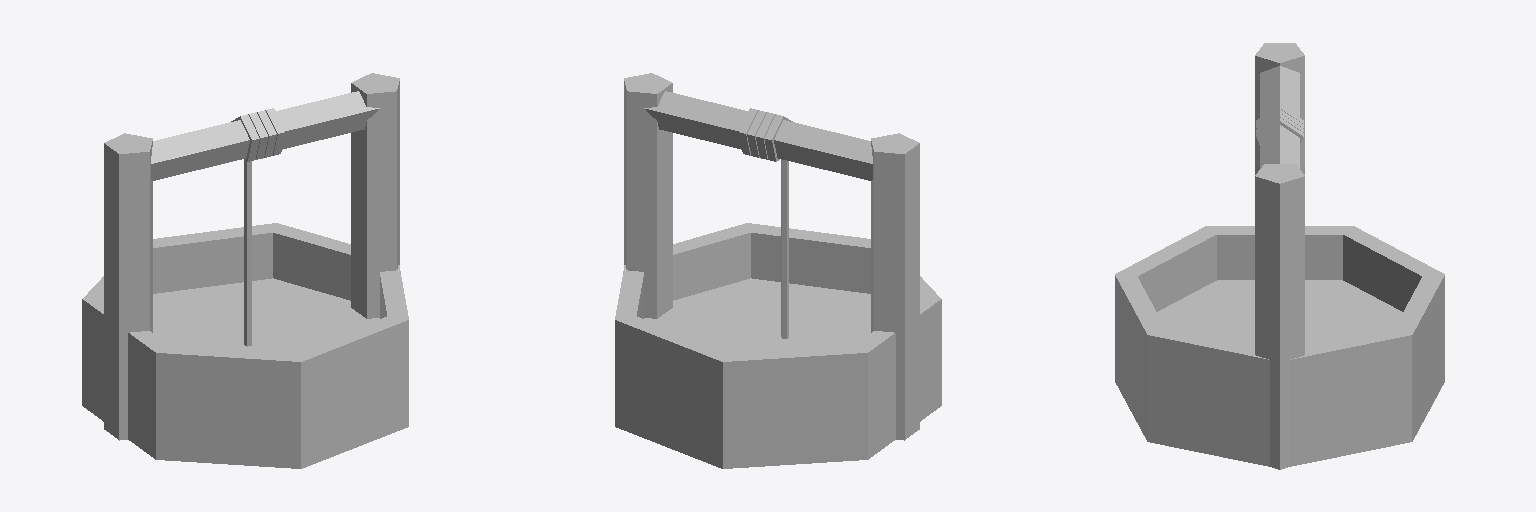
File: well.obj
3 views of the same model, side by side, from view 1: azimuth 30°, elevation 25°; view 2: azimuth 150°, elevation 25°; view 3: azimuth 270°, elevation 25° (orthographic).
Parts seen in each view (by area): view 1: Well_Mesh.003; view 2: Well_Mesh.003; view 3: Well_Mesh.003.
Boxes of the visible parts, x1=… form: Well_Mesh.003: x1=82, y1=73, x2=408, y2=468; Well_Mesh.003: x1=615, y1=73, x2=941, y2=468; Well_Mesh.003: x1=1115, y1=43, x2=1444, y2=469.
Size of the model in its own units: 1.79 by 1.7 by 1.77.